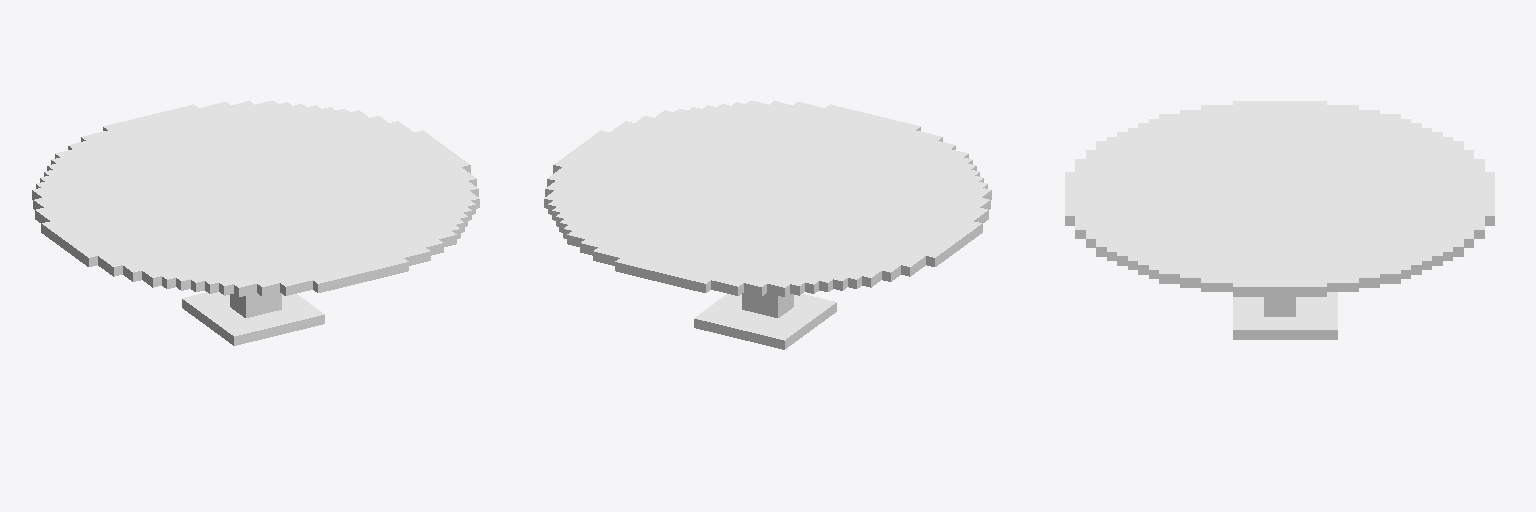
The model's file is mesa1.obj.
The picture shows the model from 3 angles: view 1: azimuth 30°, elevation 25°; view 2: azimuth 150°, elevation 25°; view 3: azimuth 270°, elevation 25°; orthographic projection.
Visible parts, largest first — view 1: object 1; view 2: object 1; view 3: object 1.
Part boxes in pixels (bbox=[...]): object 1: bbox=[32, 101, 479, 345]; object 1: bbox=[544, 101, 991, 349]; object 1: bbox=[1065, 101, 1494, 339].
Bounding box in the file's own units: 4.2 × 1.3 × 4.1.